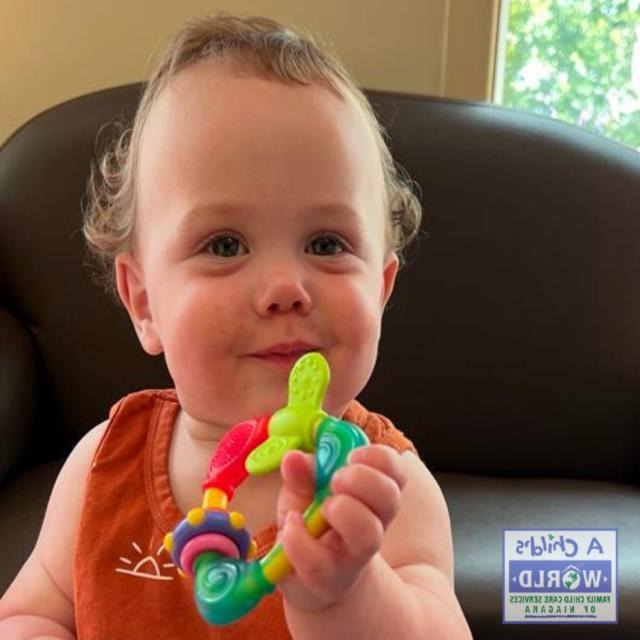child: (1, 9, 475, 640)
